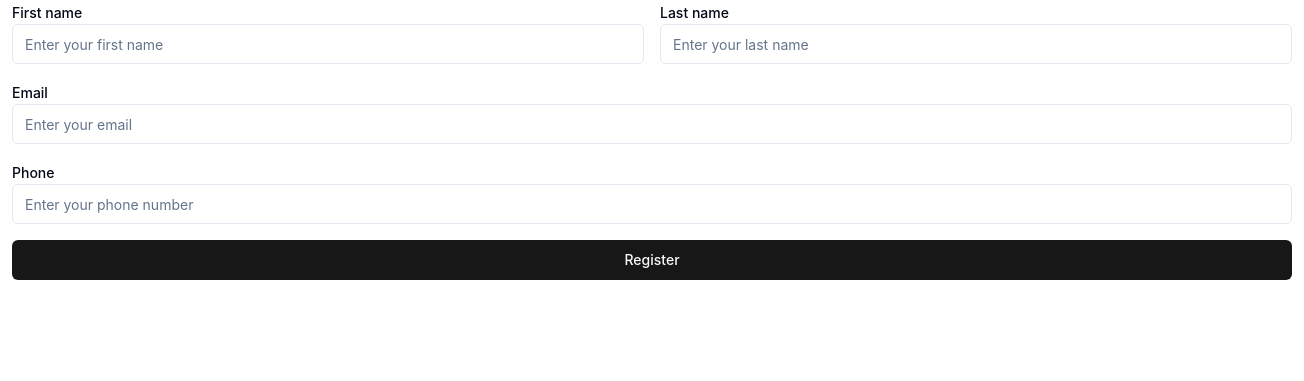
RegisterForm › drops a message as soon as the field value becomes valid
This screenshot has width=1304, height=381.
Step 1. Click the button "Register" → (652,260), box [12,240,1292,280]
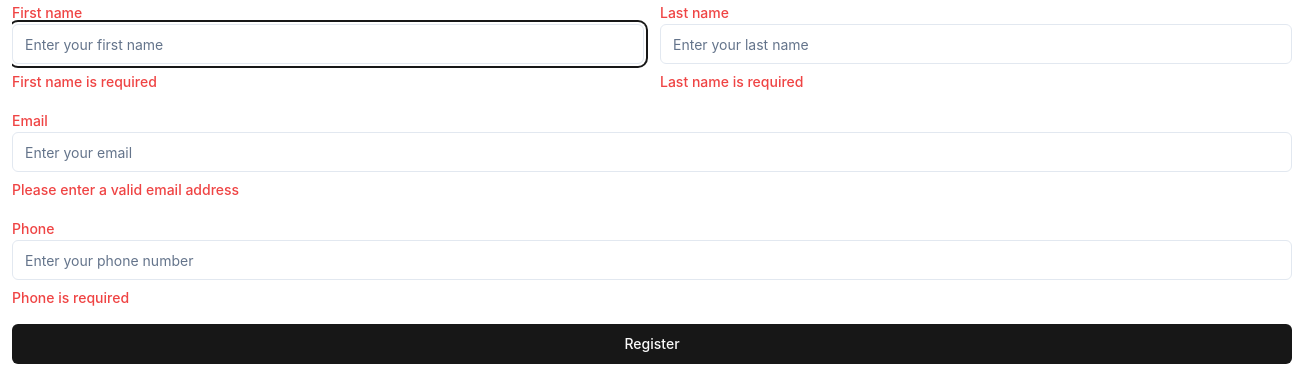
Expected: the text "First name is required" is shown, [12,73,157,90]
Step 2. Type "Ada" into the field labelled "First name" → (328,44), box [12,24,644,64]
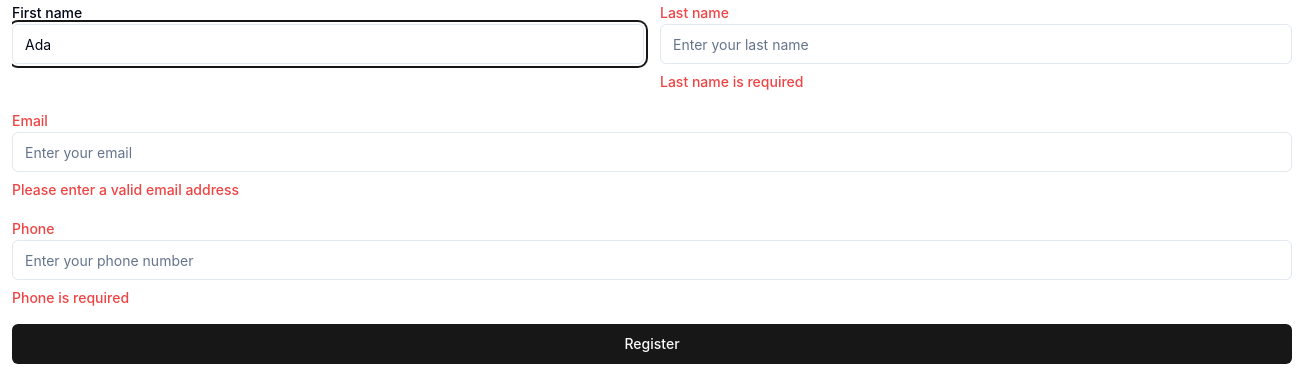
Expected: the text "First name is required" is gone
